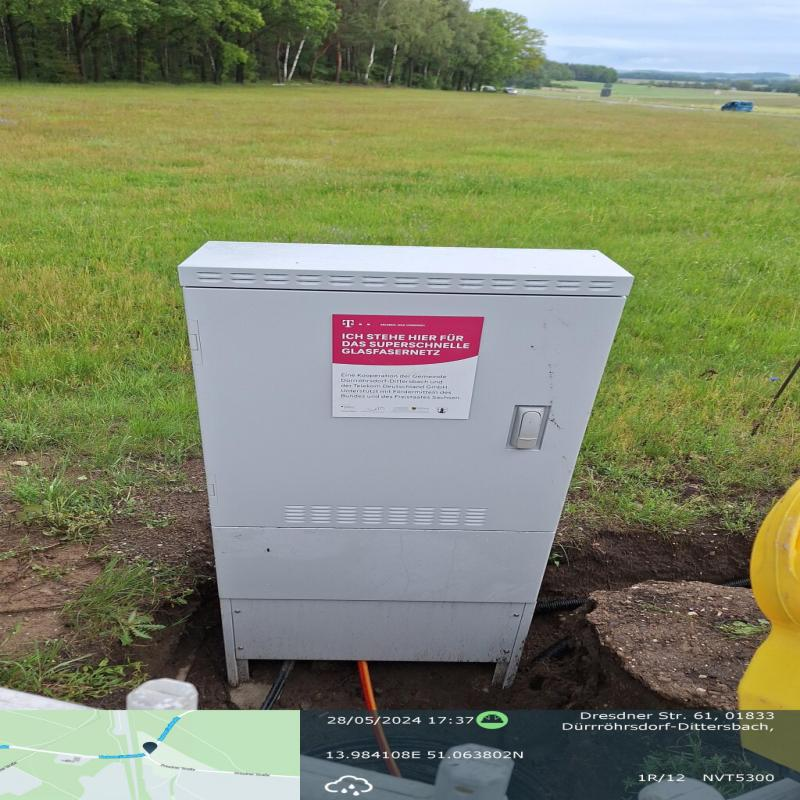NT-Gehause: (179, 240, 640, 665)
Steaker: (334, 314, 479, 415)
